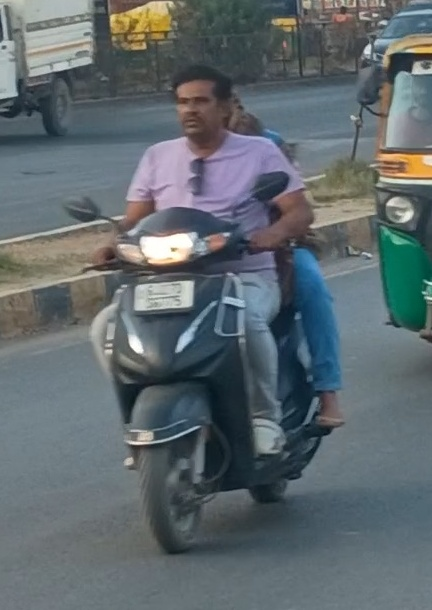BikeWithRider: (52, 57, 356, 559)
NoHelmet: (160, 59, 245, 147)
